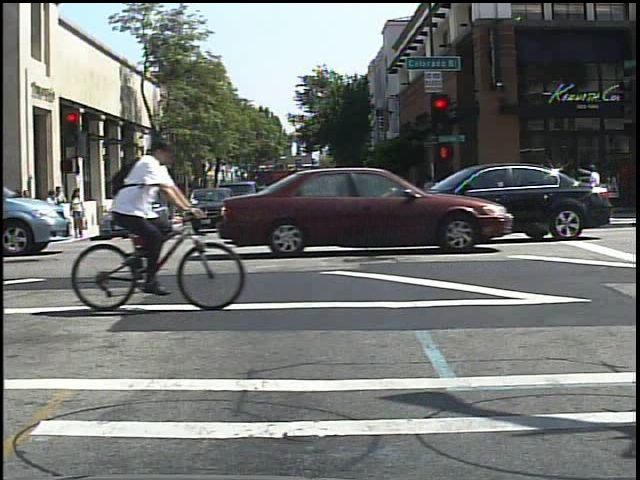person: (114, 125, 194, 304), (586, 158, 612, 223)
